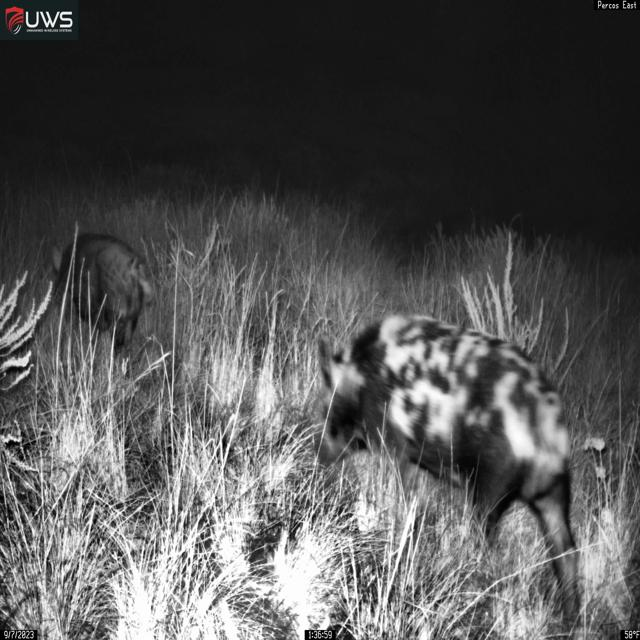pig: (311, 312, 582, 640)
